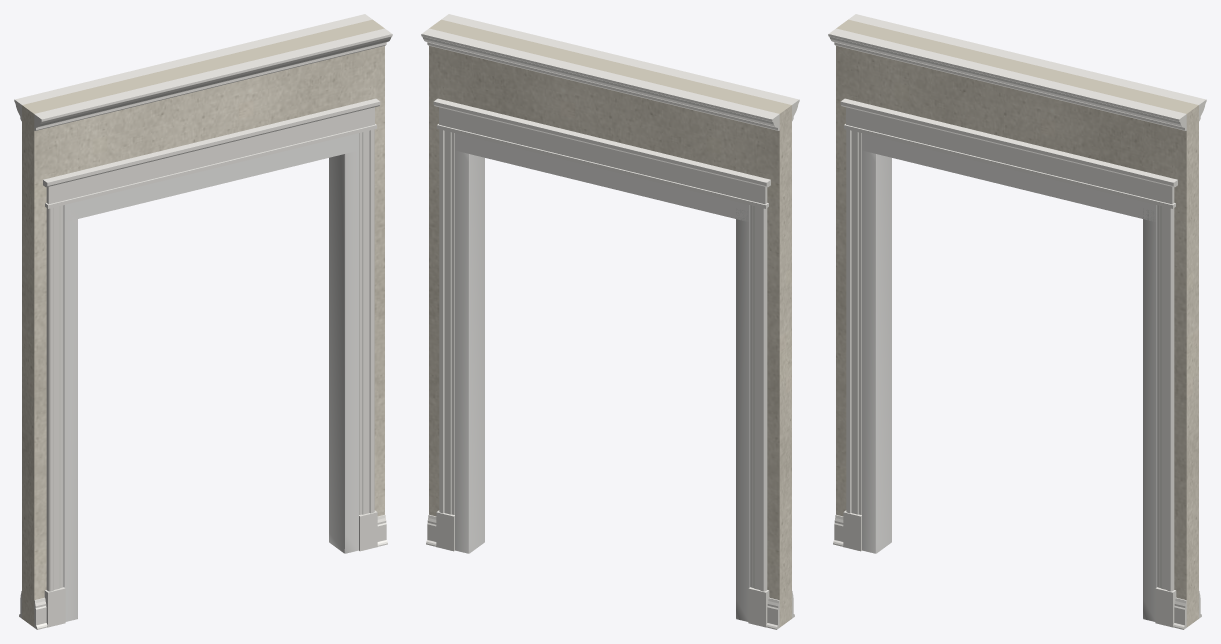
The model's file is interior_wall_wide.glb.
3 views of the same model, side by side, from view 1: azimuth 30°, elevation 25°; view 2: azimuth 150°, elevation 25°; view 3: azimuth 330°, elevation 25° (orthographic).
Parts seen in each view (by area): view 1: interior_wall_wide_plaster, molduras, interior_wall_wide_frame; view 2: interior_wall_wide_plaster, molduras, interior_wall_wide_frame; view 3: interior_wall_wide_plaster, molduras, interior_wall_wide_frame.
Part boxes in pixels (bbox=[...]): interior_wall_wide_plaster: bbox=[22, 19, 384, 627]; molduras: bbox=[14, 14, 392, 629]; interior_wall_wide_frame: bbox=[63, 133, 358, 621]; interior_wall_wide_plaster: bbox=[429, 19, 791, 627]; molduras: bbox=[421, 14, 799, 629]; interior_wall_wide_frame: bbox=[455, 133, 750, 621]; interior_wall_wide_plaster: bbox=[836, 19, 1198, 627]; molduras: bbox=[828, 14, 1206, 629]; interior_wall_wide_frame: bbox=[862, 133, 1157, 621].
Size of the model in its own units: 2 by 2.8 by 0.27.
Materials: 3 (1 with a texture image).
